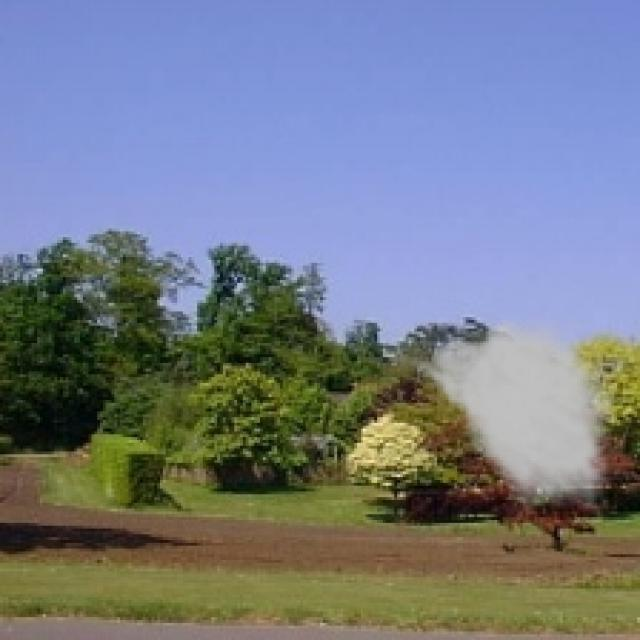Smoke: (391, 312, 620, 517)
